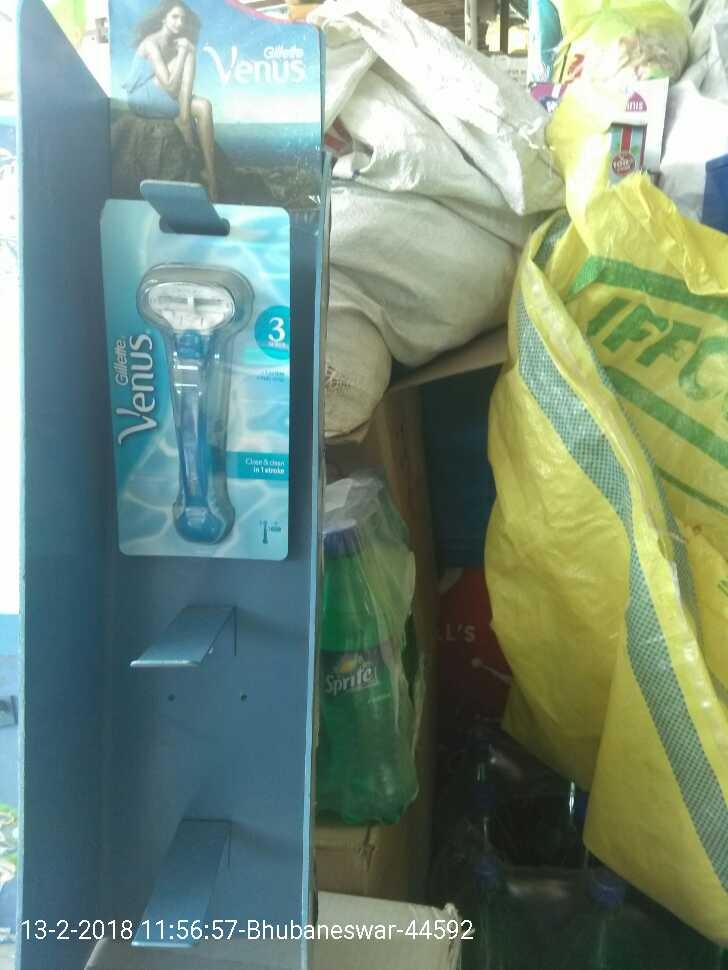venus: (108, 217, 298, 560)
